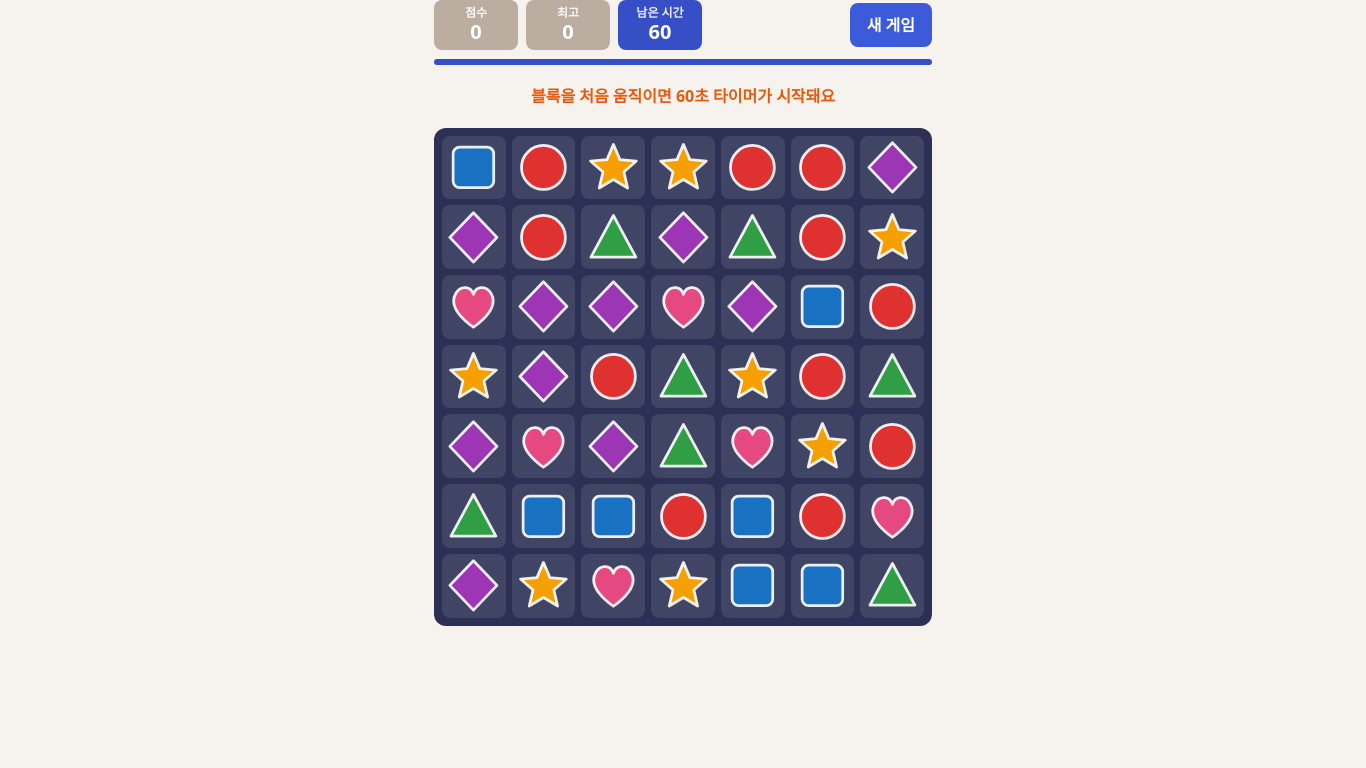
Test: Match3Game 화면 › 시간이 끝날 때 진행 중인 연쇄는 마무리한 뒤 게임오버
The image size is (1366, 768).
Click the button named "파란 사각형, 1행 1열". click: (474, 167)
box: top-left (442, 136), bottom-right (506, 199)
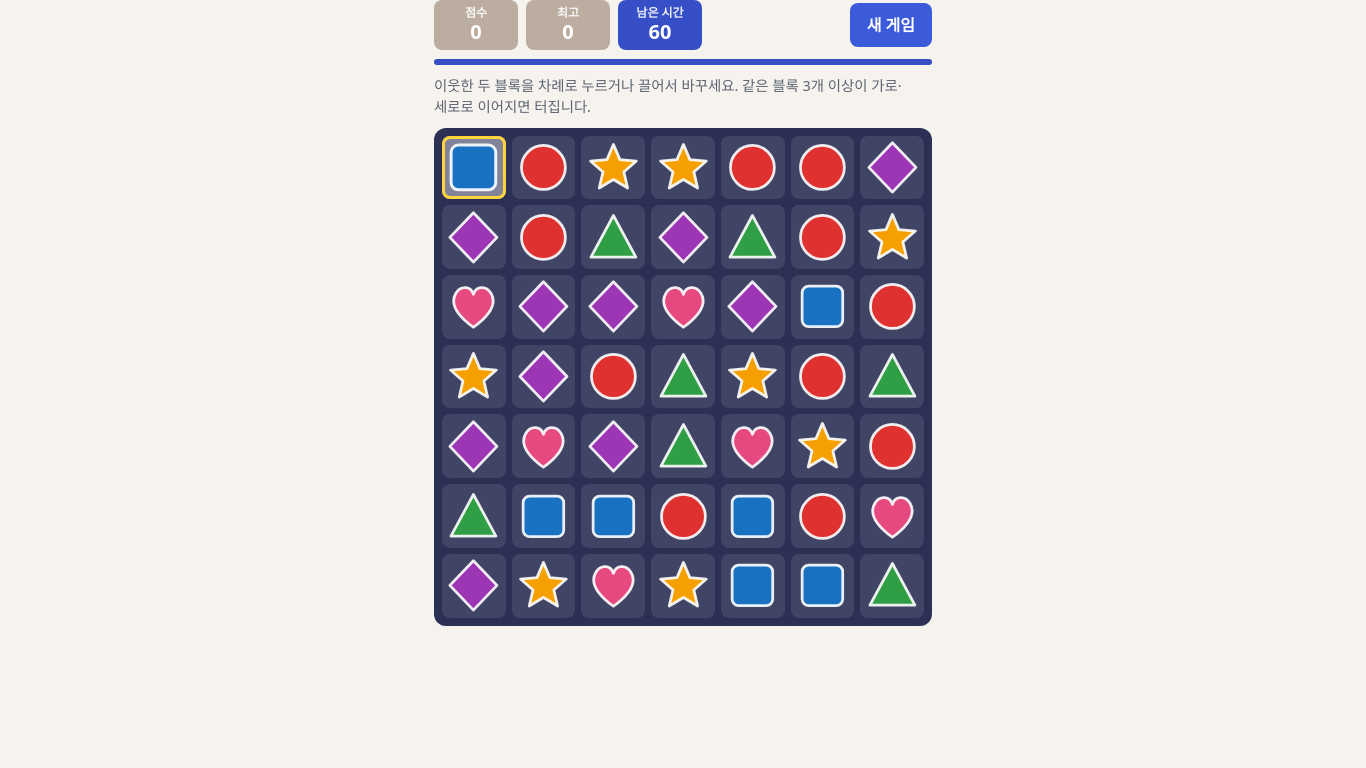
Click the button named "파란 사각형, 1행 1열". click: (474, 167)
box: top-left (442, 136), bottom-right (506, 199)
Wait 59900 ms
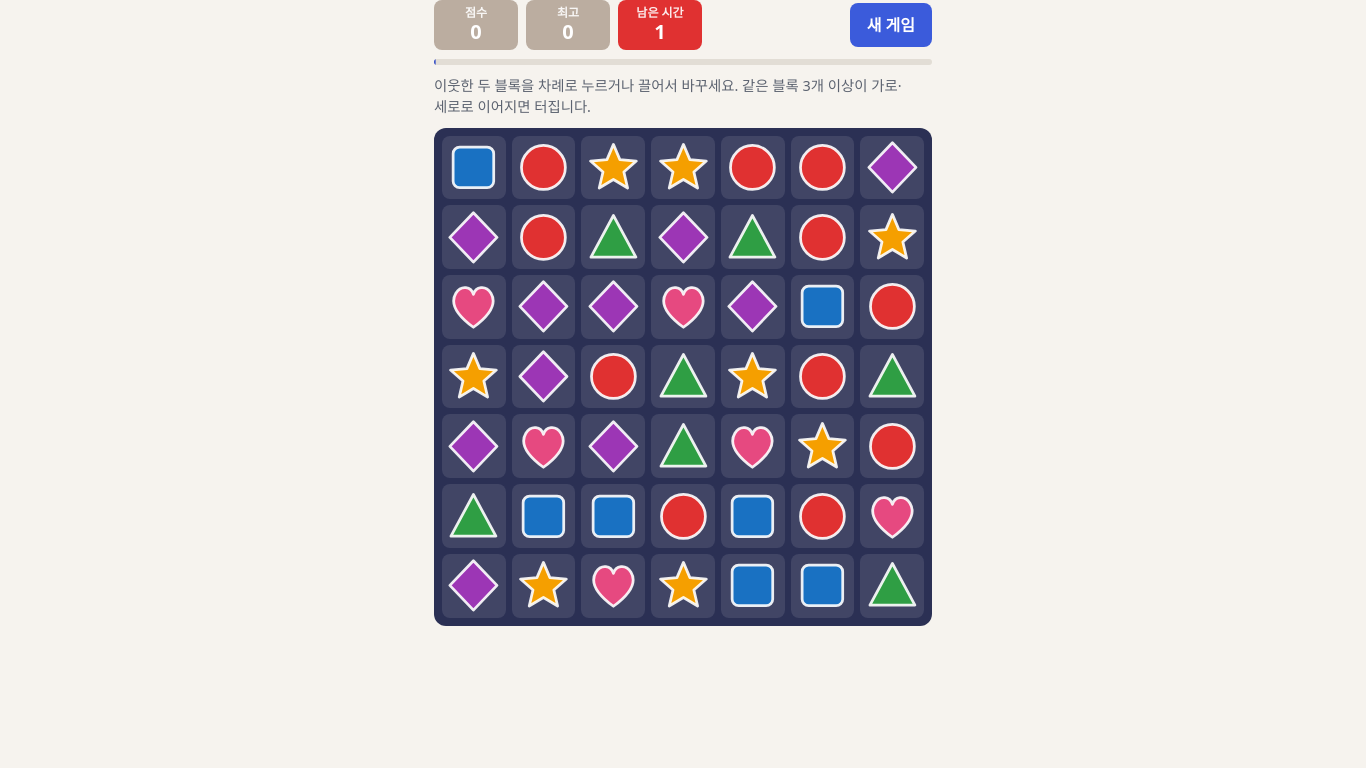
Click the button named "보라 다이아몬드, 2행 1열". click: (474, 237)
box: top-left (442, 205), bottom-right (506, 269)
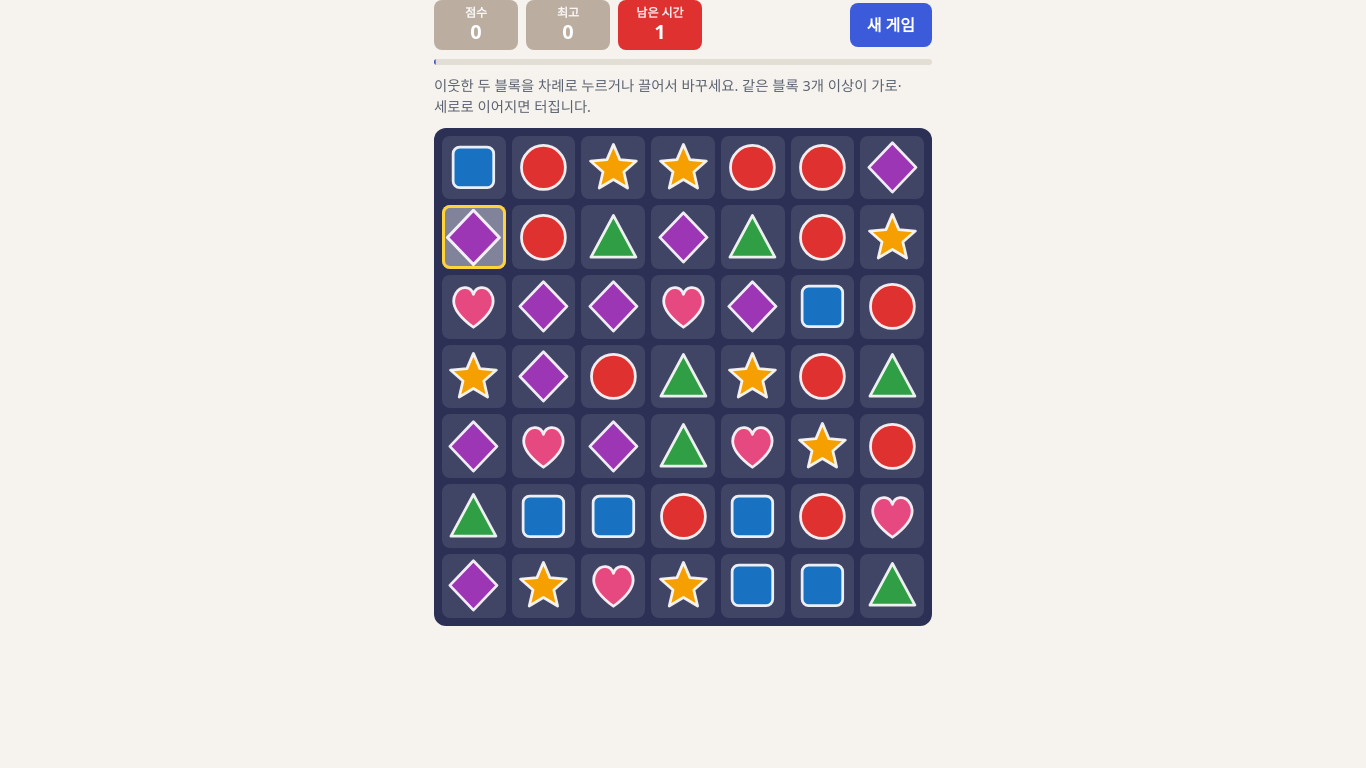
Click the button named "빨간 원, 2행 2열". click: (544, 237)
box: top-left (512, 205), bottom-right (576, 269)
Wait 660 ms
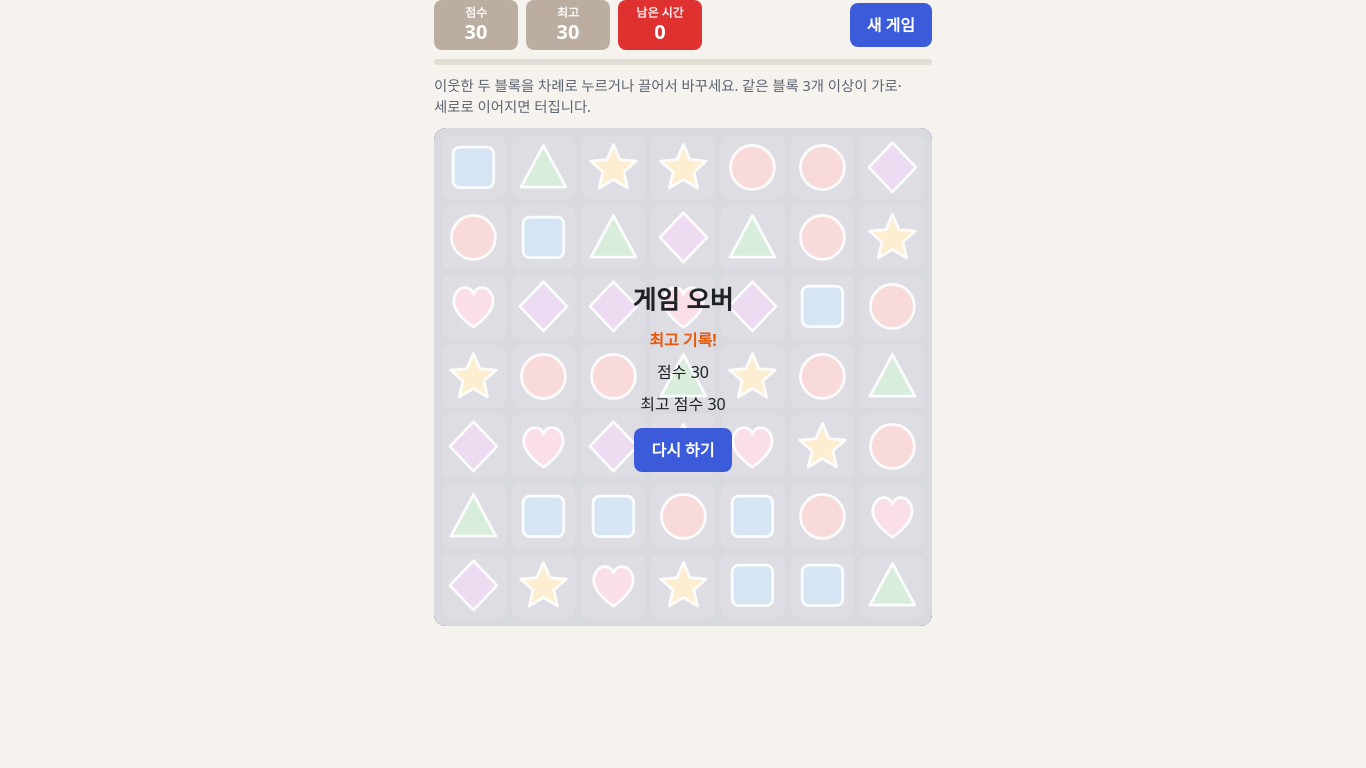
Now the text "게임 오버" is shown, box top-left (633, 281), bottom-right (733, 320)
Now the text "최고 기록!" is shown, box top-left (649, 328), bottom-right (717, 352)
